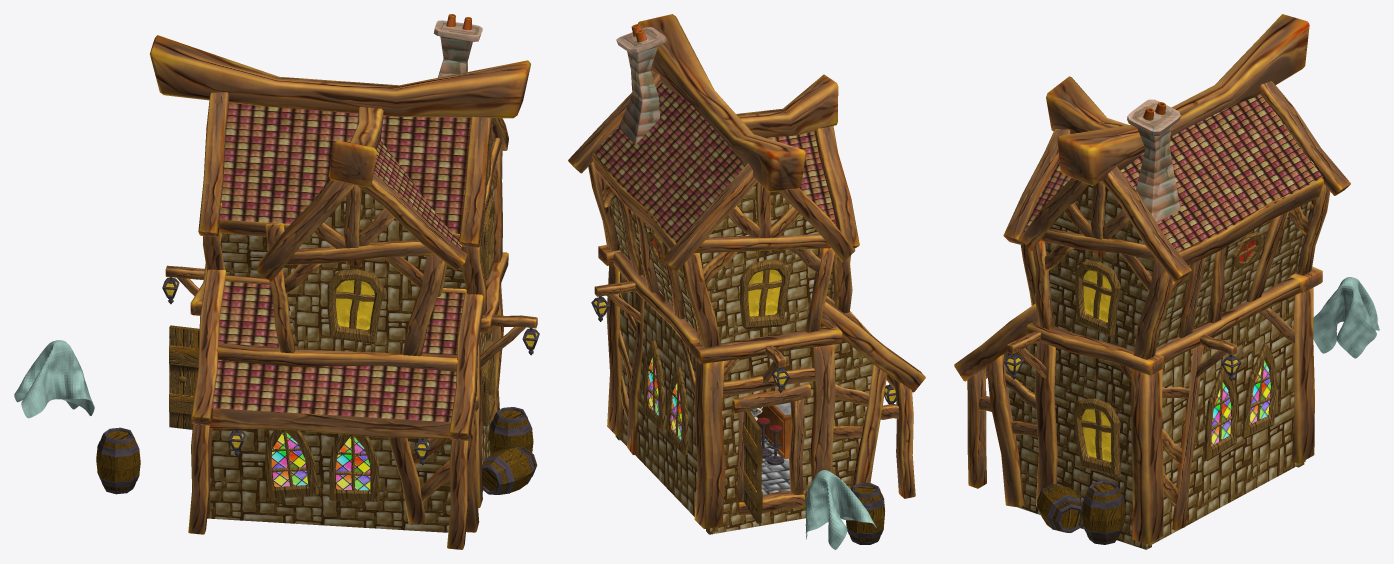
The model's file is Tavern+1.glb.
3 renders of one model, left to right at view 1: azimuth 30°, elevation 25°; view 2: azimuth 150°, elevation 25°; view 3: azimuth 270°, elevation 25°, orthographic. The views are drawn at different scales.
Visible parts, largest first — view 1: Taverne+1, Tonneaux, Fantom; view 2: Taverne+1, Fantom, Interieur, Tonneaux; view 3: Taverne+1, Tonneaux, Fantom.
Boxes of the visible parts, box(x1,y1,x2,y2) form: Taverne+1: box(150, 14, 539, 549); Tonneaux: box(96, 407, 537, 494); Fantom: box(14, 340, 94, 418); Taverne+1: box(568, 14, 925, 534); Fantom: box(805, 470, 876, 549); Interieur: box(753, 402, 791, 465); Tonneaux: box(846, 483, 884, 544); Taverne+1: box(954, 14, 1350, 549); Tonneaux: box(1037, 480, 1125, 544); Fantom: box(1313, 277, 1379, 358).
Bounding box in the file's own units: 2.45 × 2.58 × 2.3.
18 materials, 15 textured.
